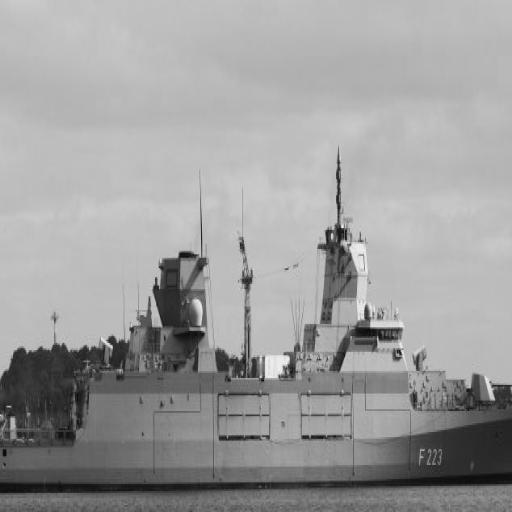Fragata: (1, 151, 512, 508)
